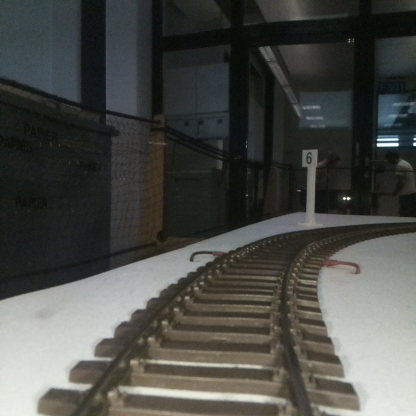white-info-6: (302, 149, 317, 225)
